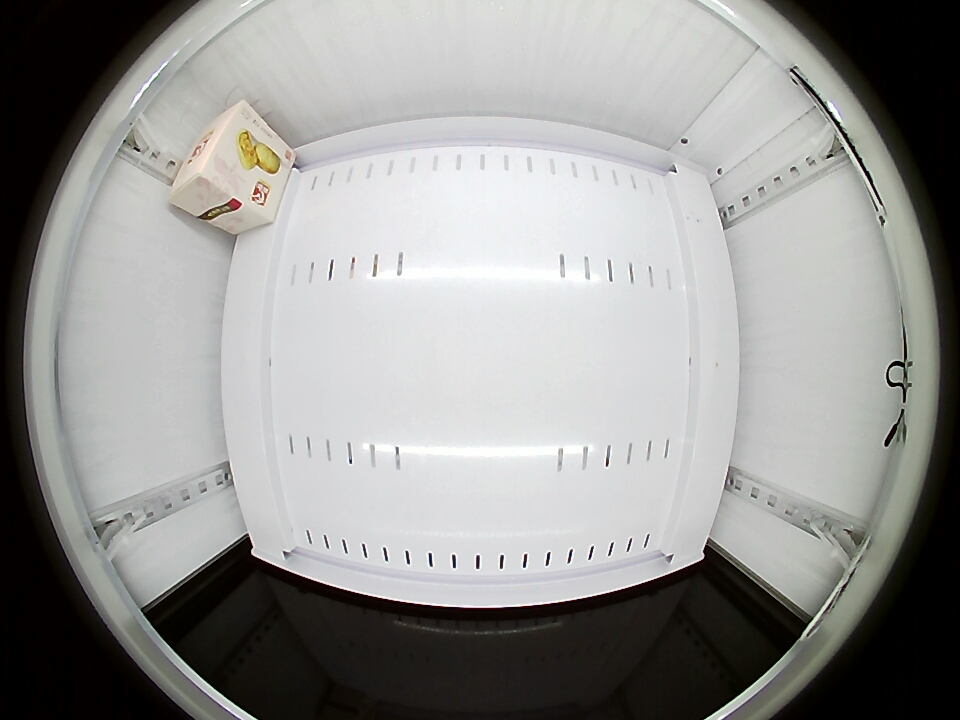rousongbing: (168, 100, 269, 222)
